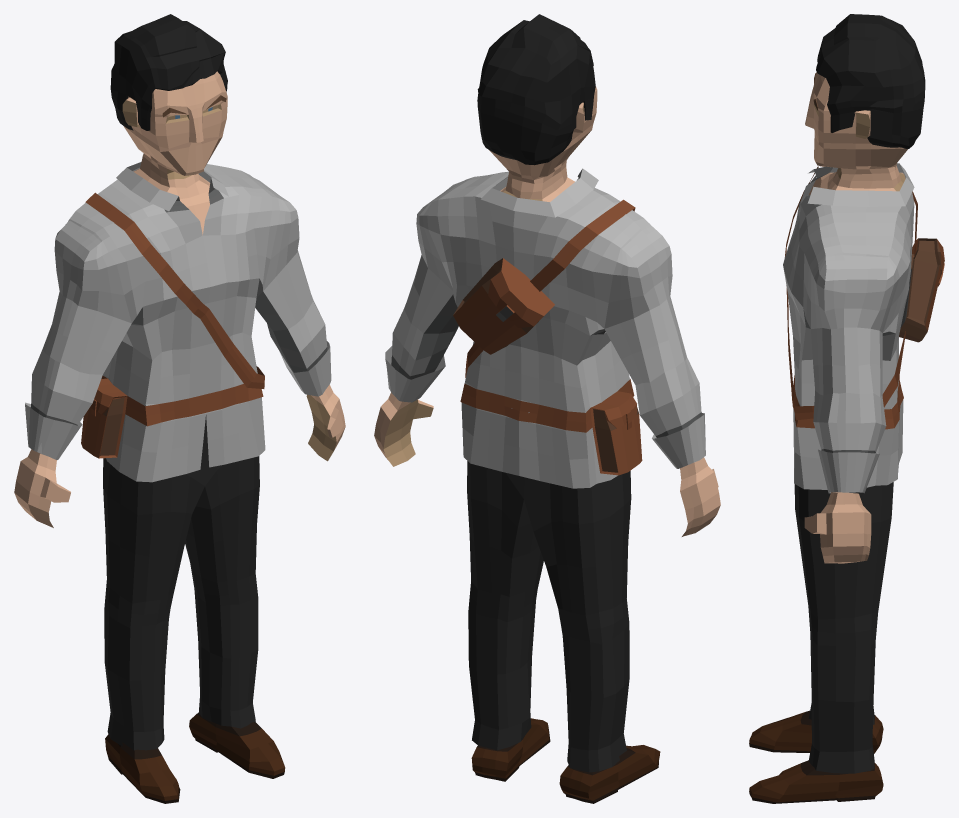
Rendered from Player.fbx.
The picture shows the model from 3 angles, left to right: view 1: azimuth 30°, elevation 25°; view 2: azimuth 150°, elevation 25°; view 3: azimuth 270°, elevation 25°; orthographic projection. The views are drawn at different scales.
Parts seen in each view (by area): view 1: Shirt.001, Pants.001, Bady, Herr, Shoes, bag, bag.002; view 2: Shirt.001, Pants.001, Herr, Bady, bag, bag.003, Shoes, bag.002; view 3: Shirt.001, Pants.001, Herr, Bady, Shoes, bag.003, bag.002, bag.
Boxes of the visible parts, x1,y1,x2,y2 form: Shirt.001: [25, 162, 331, 482]; Pants.001: [103, 415, 259, 750]; Bady: [14, 71, 345, 527]; Herr: [110, 14, 227, 130]; Shoes: [105, 712, 285, 803]; bag: [81, 375, 263, 458]; bag.002: [85, 192, 264, 388]; Shirt.001: [385, 168, 705, 488]; Pants.001: [467, 461, 631, 772]; Herr: [477, 14, 595, 165]; Bady: [374, 86, 720, 536]; bag: [460, 379, 642, 475]; bag.003: [453, 258, 554, 354]; Shoes: [471, 718, 660, 803]; bag.002: [465, 199, 635, 377]; Shirt.001: [783, 163, 914, 493]; Pants.001: [794, 482, 893, 773]; Herr: [816, 14, 925, 148]; Bady: [804, 72, 907, 563]; Shoes: [749, 710, 883, 803]; bag.003: [899, 238, 944, 342]; bag.002: [784, 166, 917, 420]; bag: [792, 375, 903, 429].
Size of the model in its own units: 206 by 453 by 107.
